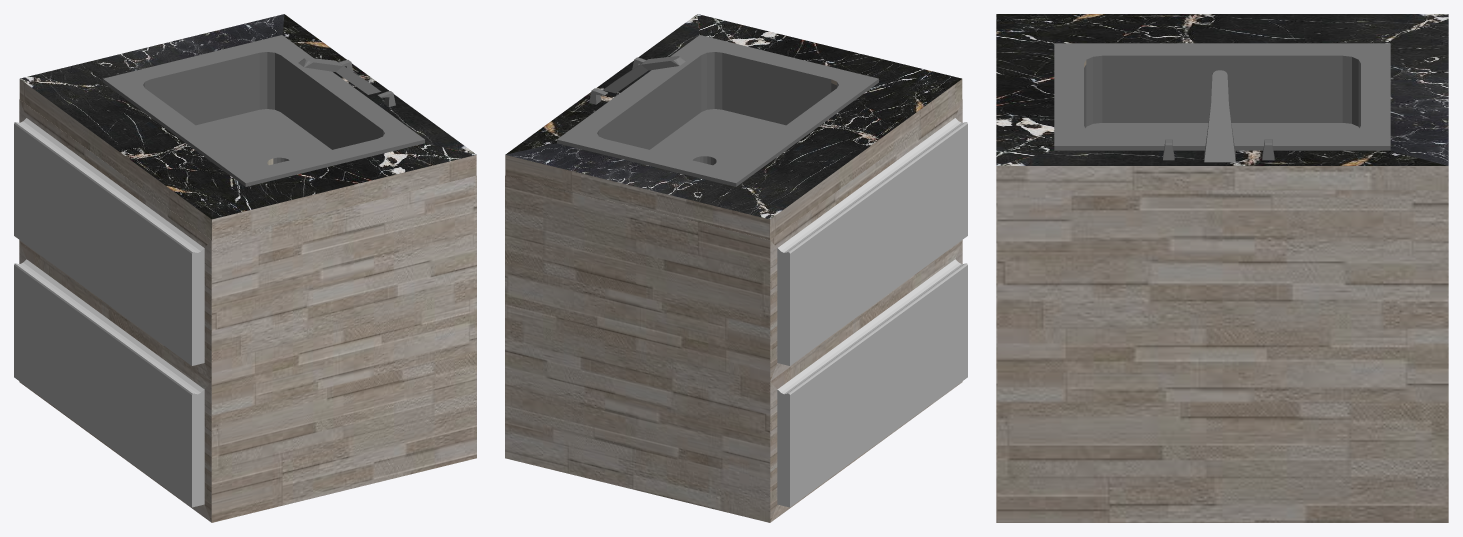
File: Sink.fbx
3 renders of one model, left to right at view 1: azimuth 30°, elevation 25°; view 2: azimuth 150°, elevation 25°; view 3: azimuth 270°, elevation 25°, orthographic. The views are drawn at different scales.
Visible parts, largest first — view 1: Cube.003; view 2: Cube.003; view 3: Cube.003.
Part boxes in pixels (x1,y1,x2,y2): Cube.003: [14, 14, 476, 522]; Cube.003: [505, 14, 967, 522]; Cube.003: [996, 14, 1448, 522].
Size of the model in its own units: 133 by 159 by 160.
